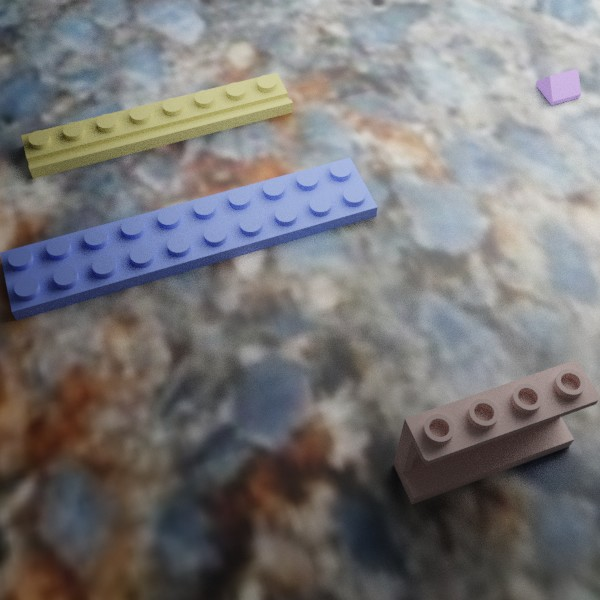lego: (0, 157, 377, 320), (393, 359, 600, 504), (21, 72, 292, 178), (535, 68, 581, 105)
